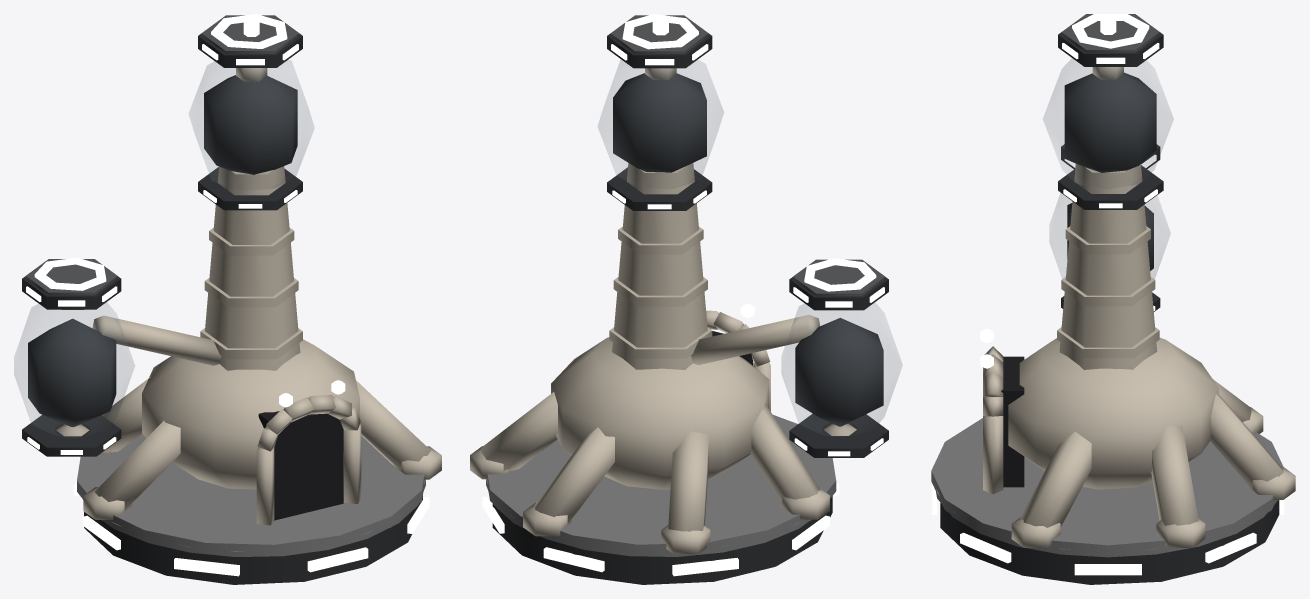
File: Skin_BioPod_T1.glb
3 renders of one model, left to right at view 1: azimuth 30°, elevation 25°; view 2: azimuth 150°, elevation 25°; view 3: azimuth 270°, elevation 25°, orthographic.
Parts seen in each view (by area): view 1: Skin_BioPod_T1; view 2: Skin_BioPod_T1; view 3: Skin_BioPod_T1.
Boxes of the visible parts, bbox=[...] form: Skin_BioPod_T1: bbox=[14, 14, 441, 584]; Skin_BioPod_T1: bbox=[470, 14, 902, 584]; Skin_BioPod_T1: bbox=[931, 14, 1295, 584].
Bounding box in the file's own units: 4.41 × 5.38 × 3.6.
